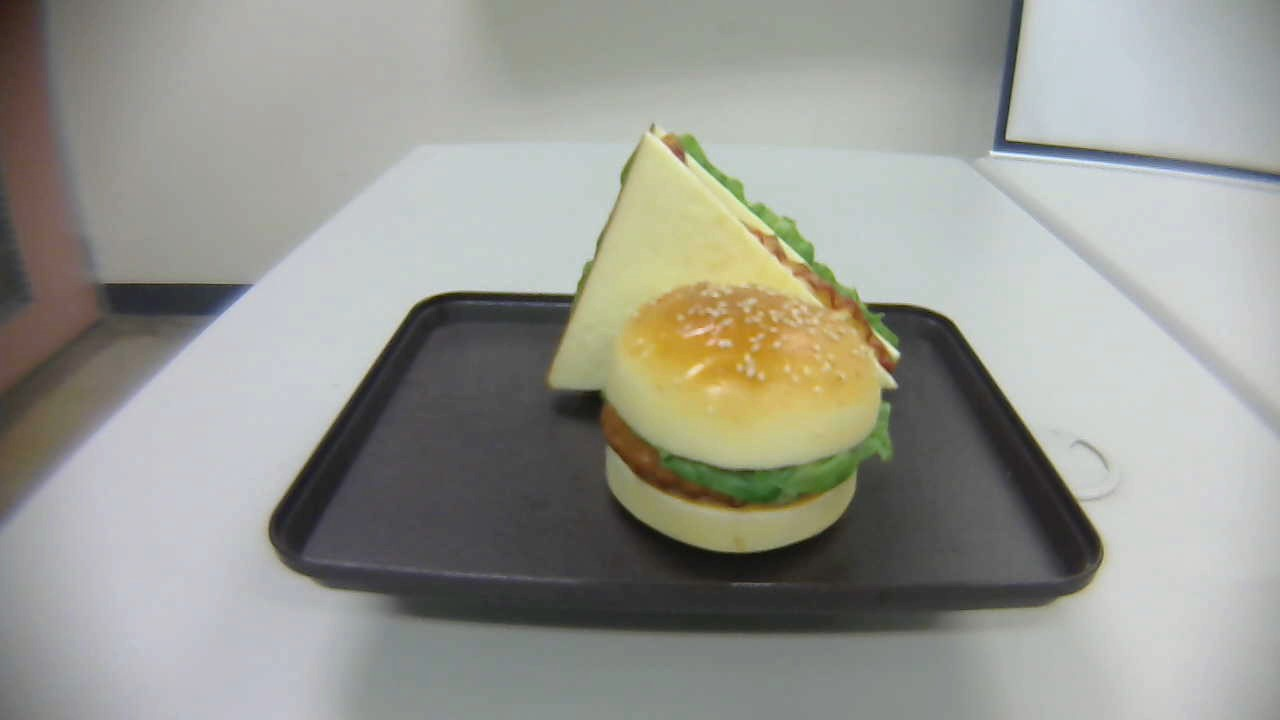hamburger: (601, 279, 894, 556)
sandwich: (548, 123, 900, 394)
